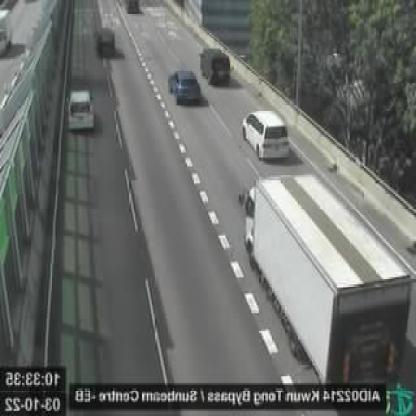Car: (242, 109, 292, 158), (203, 46, 233, 86), (169, 70, 203, 102), (70, 88, 95, 130), (96, 28, 117, 57)
Truck: (240, 175, 411, 383)
